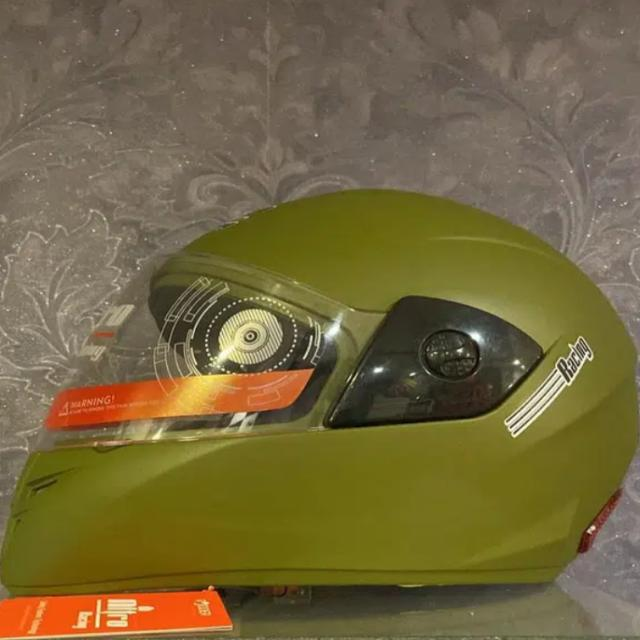Helmet: (13, 172, 640, 634)
